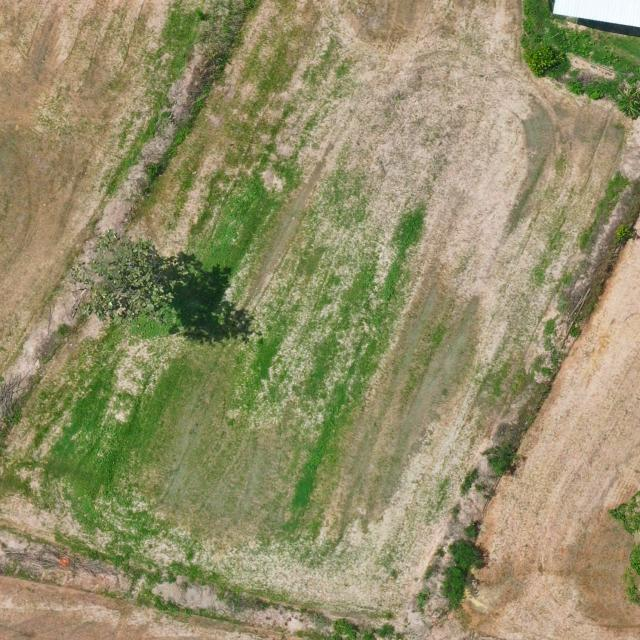Tree: (67, 227, 176, 326), (606, 425, 640, 640)
